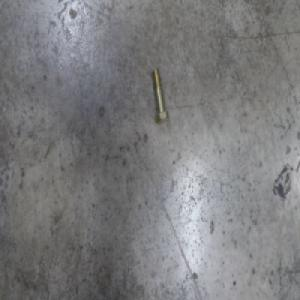Bolt: (151, 69, 169, 126)
